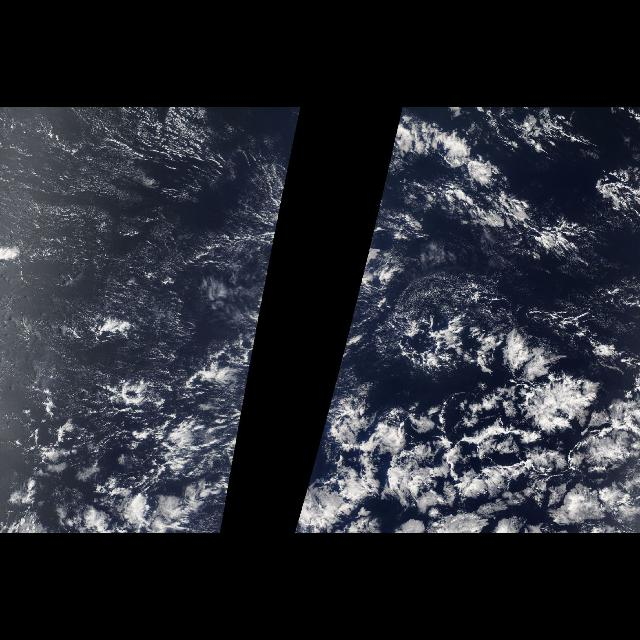Fish: (346, 410, 640, 520), (403, 119, 589, 268)
Flower: (329, 316, 639, 532)
Gravel: (380, 281, 470, 381)
Sugar: (0, 108, 280, 388)
